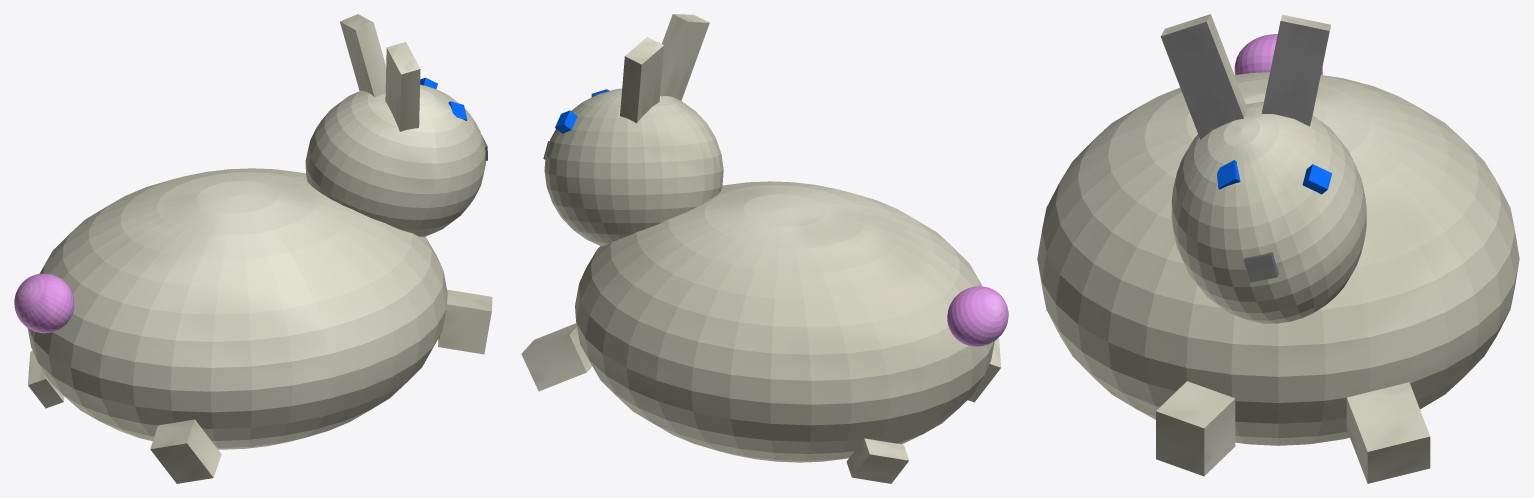
The model's file is CreatureWhiteRabbit.dae.
3 renders of one model, left to right at view 1: azimuth 30°, elevation 25°; view 2: azimuth 150°, elevation 25°; view 3: azimuth 270°, elevation 25°, orthographic. The views are drawn at different scales.
Parts seen in each view (by area): view 1: Sphere, Sphere.001, Cube.003, Sphere.002, Cube.001, Cube.005, Cube.004, Cube.002; view 2: Sphere, Sphere.001, Sphere.002, Cube, Cube.005, Cube.004, Cube.002, Cube.003; view 3: Sphere, Sphere.001, Cube, Cube.005, Cube.001, Cube.004, Sphere.002, Cube.006, Cube.007.
Boxes of the visible parts, left/top/right/bottom form: Sphere: left=27, top=168, right=447, bottom=449; Sphere.001: left=305, top=84, right=485, bottom=237; Cube.003: left=150, top=419, right=221, bottom=483; Sphere.002: left=14, top=273, right=74, bottom=333; Cube.001: left=438, top=289, right=492, bottom=354; Cube.005: left=385, top=42, right=420, bottom=131; Cube.004: left=340, top=14, right=386, bottom=97; Cube.002: left=28, top=351, right=64, bottom=408; Sphere: left=575, top=181, right=994, bottom=462; Sphere.001: left=544, top=88, right=723, bottom=246; Sphere.002: left=947, top=286, right=1008, bottom=346; Cube: left=521, top=323, right=592, bottom=391; Cube.005: left=660, top=14, right=709, bottom=100; Cube.004: left=620, top=37, right=663, bottom=123; Cube.002: left=846, top=438, right=909, bottom=483; Cube.003: left=968, top=337, right=1001, bottom=402; Sphere: left=1037, top=72, right=1519, bottom=445; Sphere.001: left=1171, top=102, right=1366, bottom=323; Cube: left=1346, top=382, right=1430, bottom=483; Cube.005: left=1160, top=14, right=1247, bottom=139; Cube.001: left=1156, top=381, right=1235, bottom=476; Cube.004: left=1261, top=14, right=1330, bottom=126; Sphere.002: left=1234, top=34, right=1322, bottom=74; Cube.006: left=1244, top=252, right=1279, bottom=282; Cube.007: left=1302, top=164, right=1332, bottom=194.
Bounding box in the file's own units: 2.23 × 1.58 × 1.7.
Materials: 1 (1 with a texture image).
